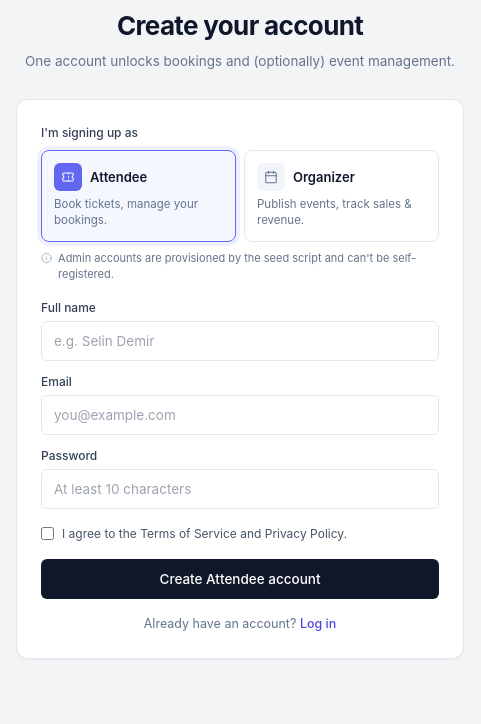
RegisterPage › refuses to submit without the terms checkbox
Type "A" into the field labelled "Full name". click: point(240, 341)
box: [41,321,439,361]
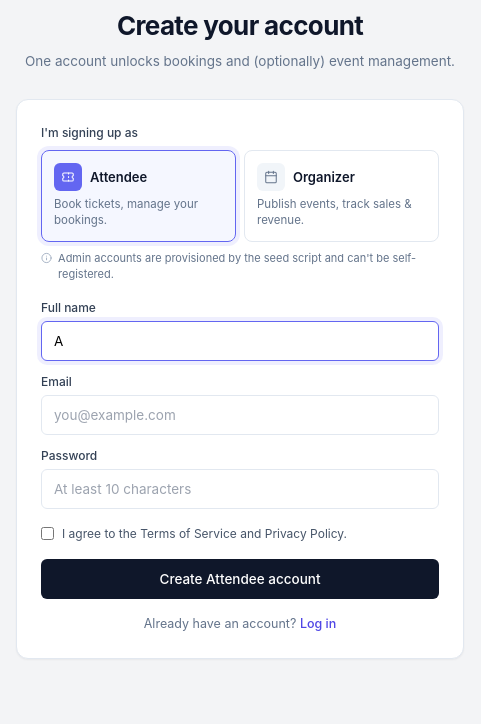
Type "a@b.co" into the field labelled "Email". click: point(240, 415)
box: [41,395,439,435]
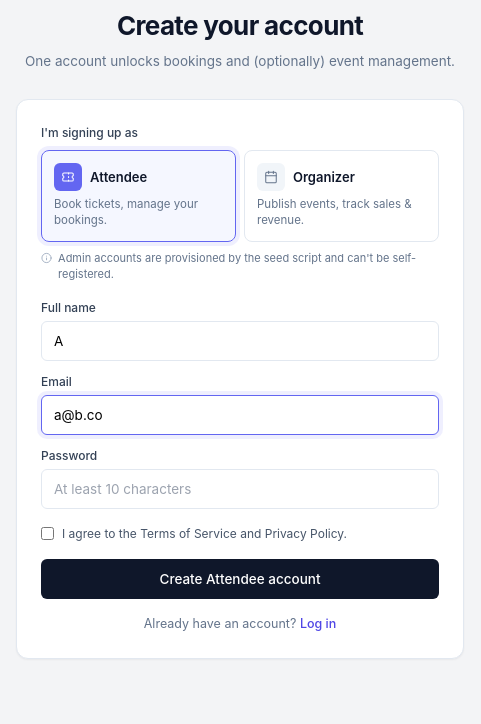
Type "longenough-pw" into the password field labelled "Password". click: point(240, 489)
box: [41,469,439,509]
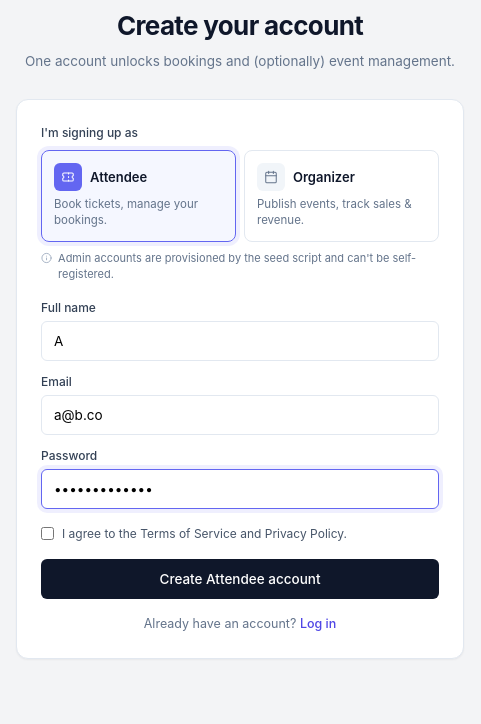
Click the button "Create Attendee account". click: point(240, 579)
box: [41,559,439,599]
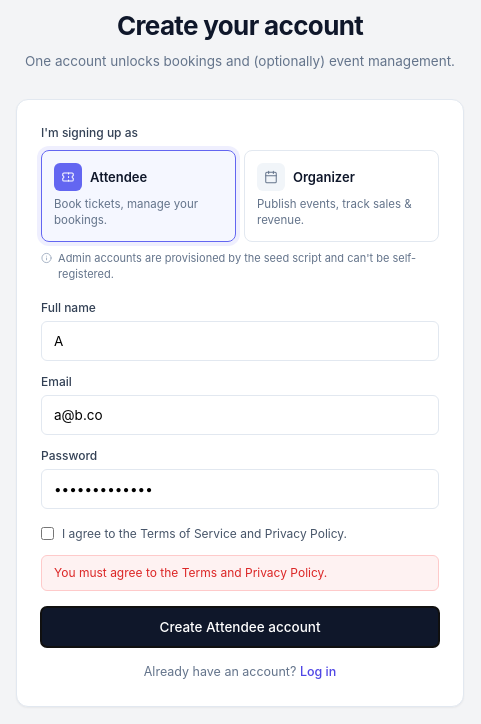
Expected: the message shows "agree to the Terms", [54,565,327,580]
